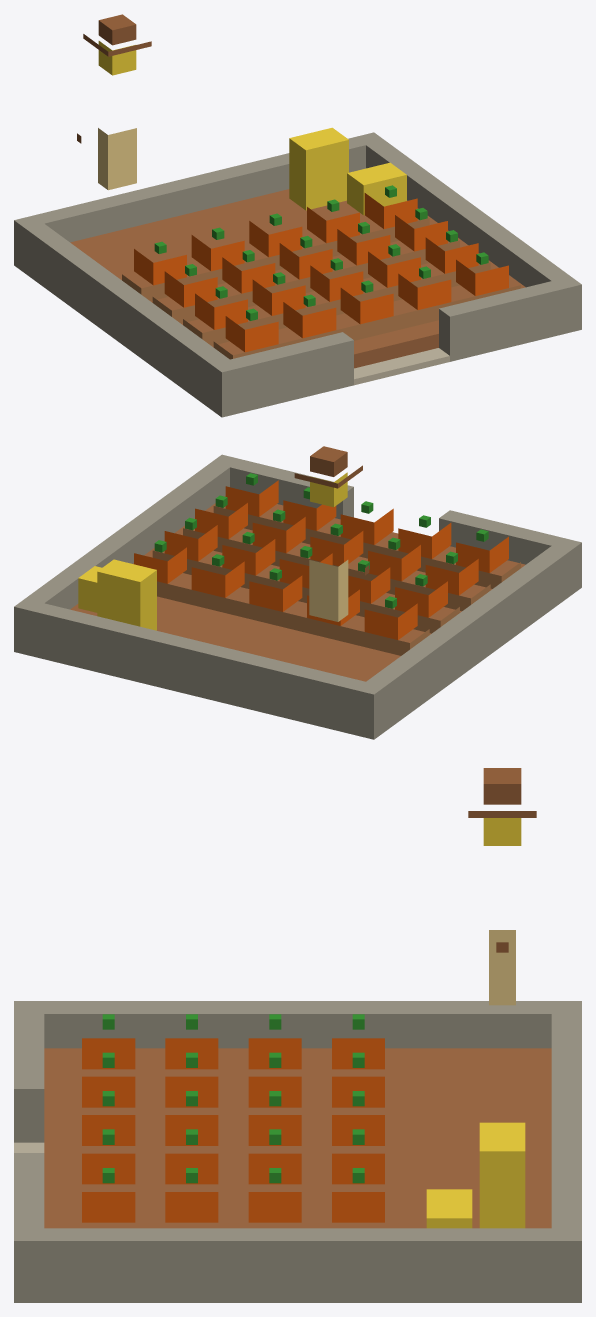
File: field_t3_v3.glb
3 views of the same model, one above another, from view 1: azimuth 30°, elevation 25°; view 2: azimuth 150°, elevation 25°; view 3: azimuth 270°, elevation 25° (orthographic). The views are drawn at different scales.
Parts seen in each view (by area): view 1: field_t3_v3; view 2: field_t3_v3; view 3: field_t3_v3.
Boxes of the visible parts, <box> form: field_t3_v3: <box>14,14,581,417</box>; field_t3_v3: <box>14,446,581,739</box>; field_t3_v3: <box>14,768,581,1302</box>.
Size of the model in its own units: 0.75 by 0.49 by 0.75.
Materials: 1 (1 with a texture image).
